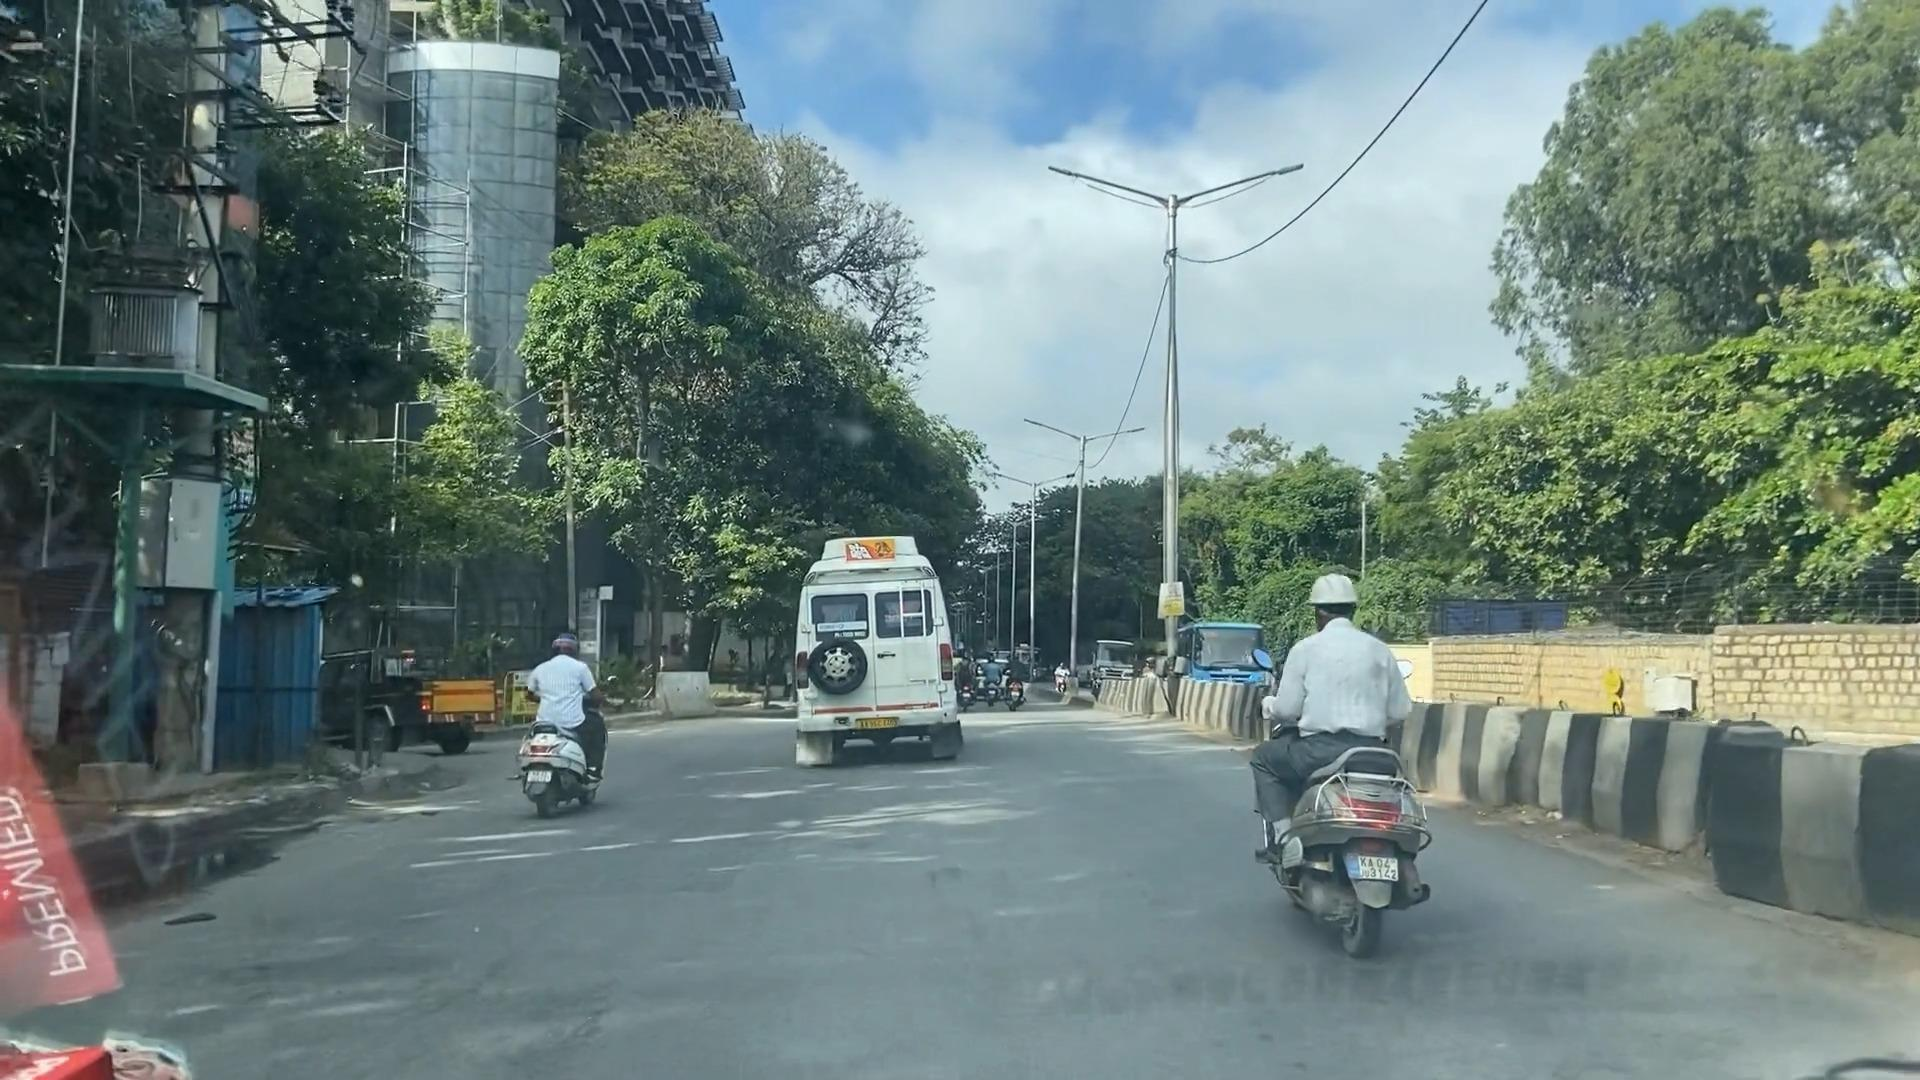LMV: (800, 541, 972, 777), (505, 618, 625, 836)
